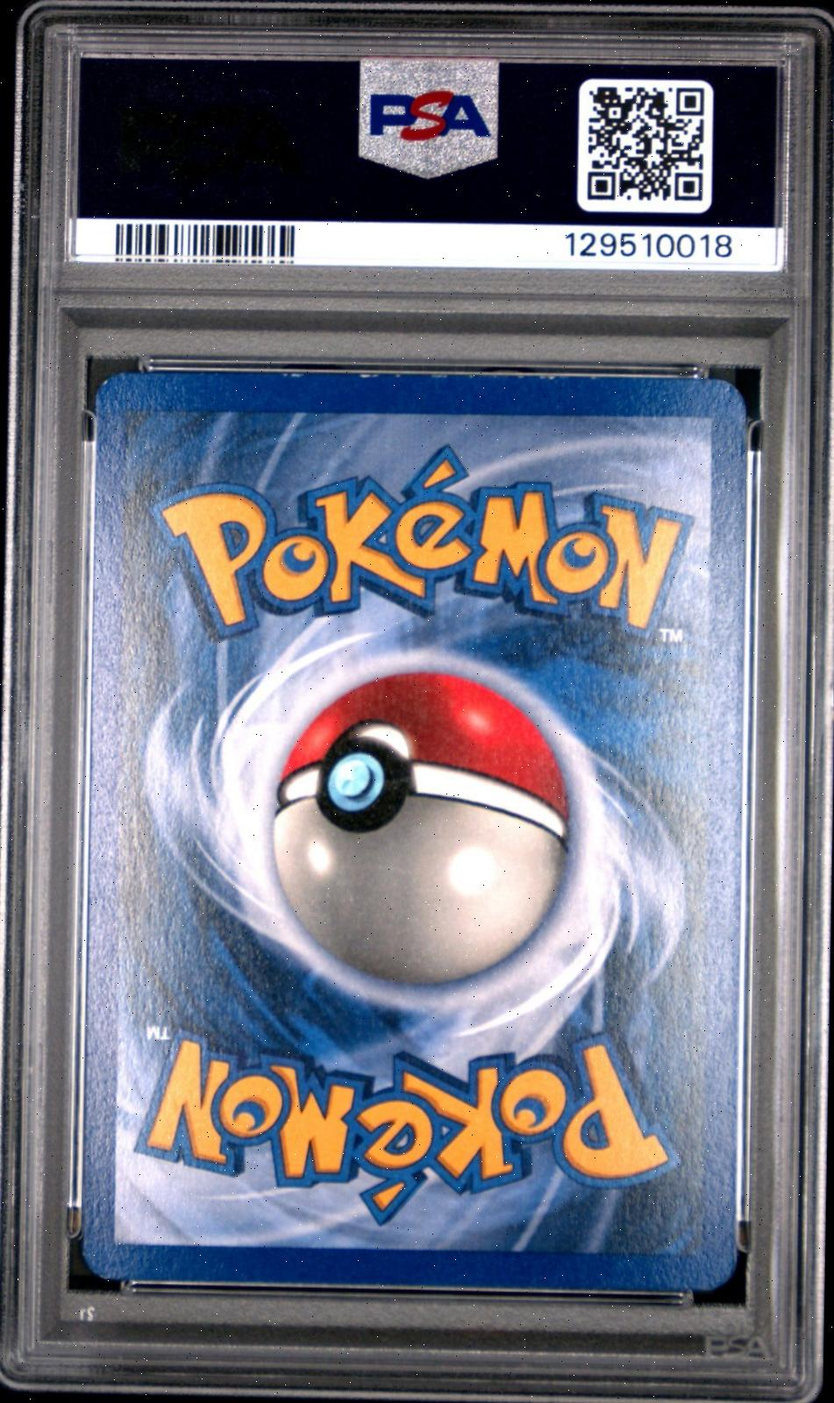card-2UtV: (79, 370, 747, 1293)
